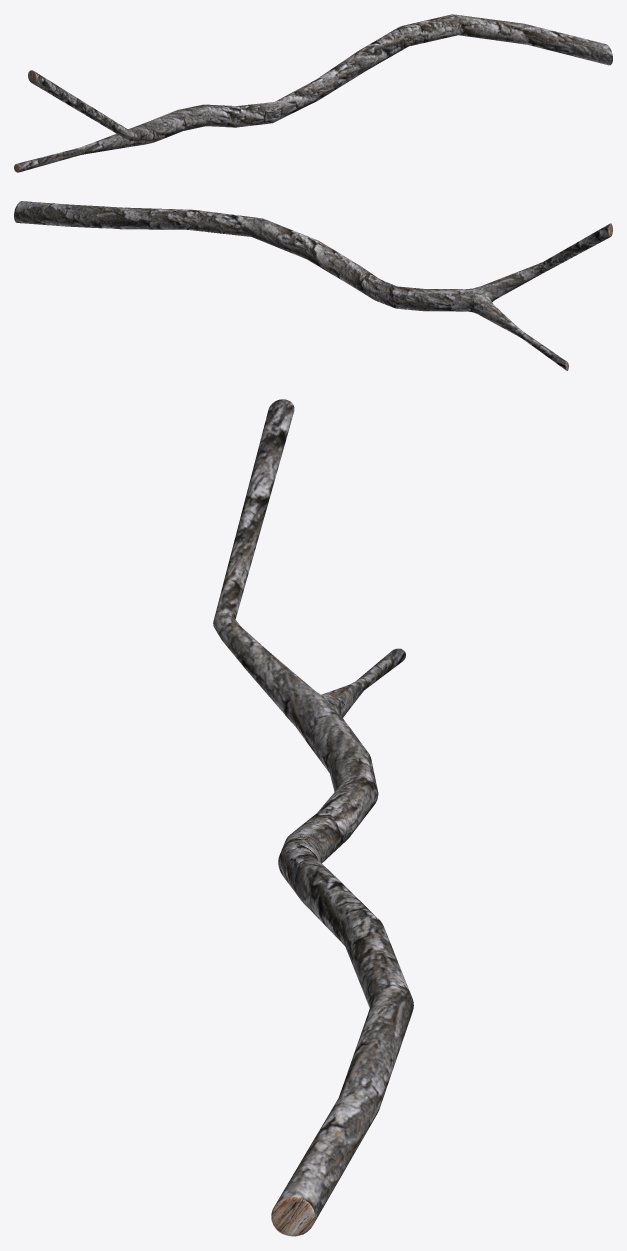
The model's file is Team2_Herry_TreeBranch.fbx.
The picture shows the model from 3 angles, top to bottom: view 1: azimuth 30°, elevation 25°; view 2: azimuth 150°, elevation 25°; view 3: azimuth 270°, elevation 25°; orthographic projection. The views are drawn at different scales.
Visible parts, largest first — view 1: pCylinder4; view 2: pCylinder4; view 3: pCylinder4.
Part boxes in pixels (bbox=[...]): pCylinder4: bbox=[14, 14, 612, 172]; pCylinder4: bbox=[14, 201, 612, 370]; pCylinder4: bbox=[213, 399, 413, 1236].
Bounding box in the file's own units: 60.14 × 13.57 × 9.01.
1 material, 1 textured.
